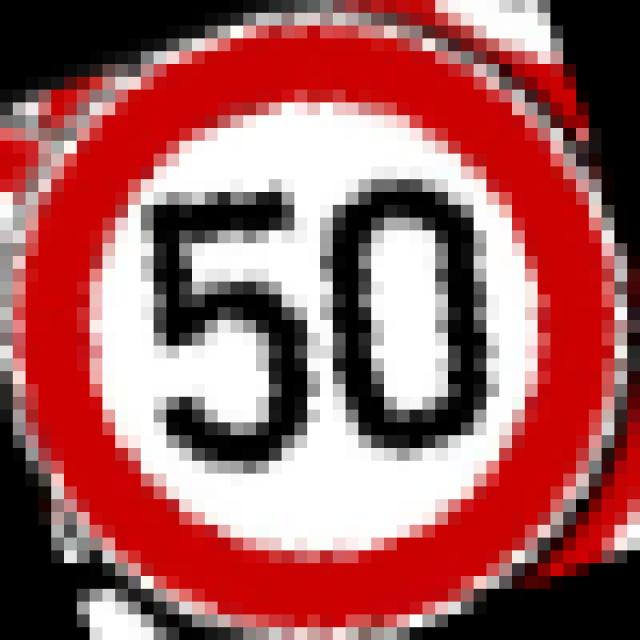Limite-50: (10, 11, 640, 640)
